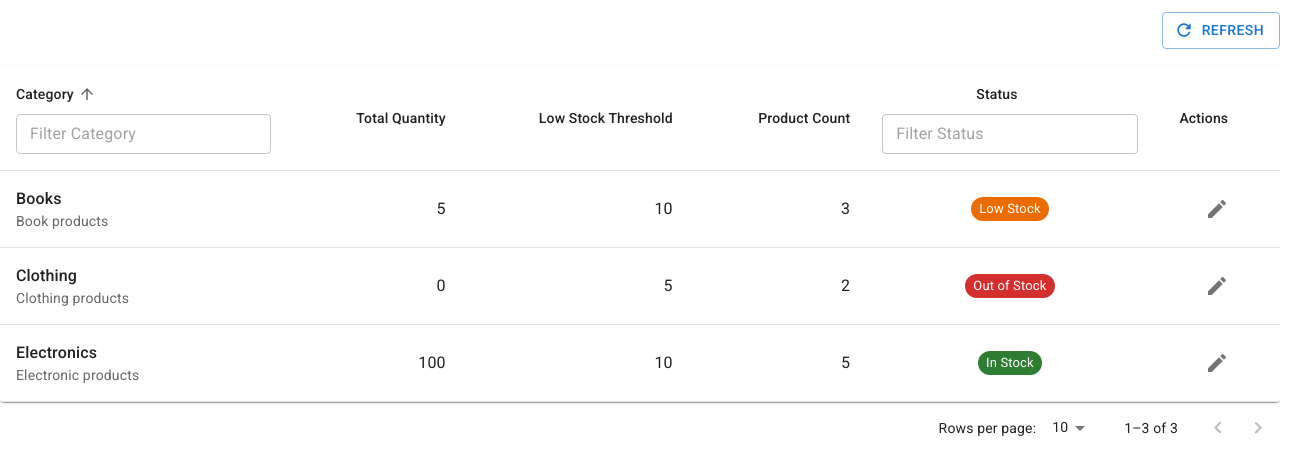
Scenario: CategoryInventoryTable › sorting and filtering › should allow sorting by quantity
Click the button "Total Quantity" at point(401, 118), box x1=356 y1=110 x2=446 y2=126
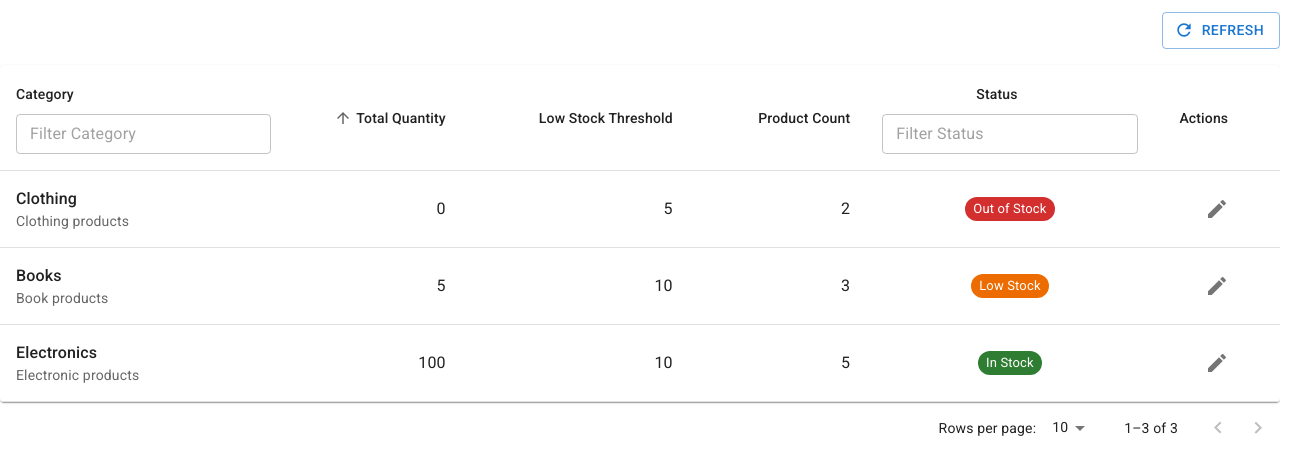
Expected: the row "Clothing Clothing products 0 5 2 Out of Stock" is shown, x1=0 y1=170 x2=1280 y2=247
